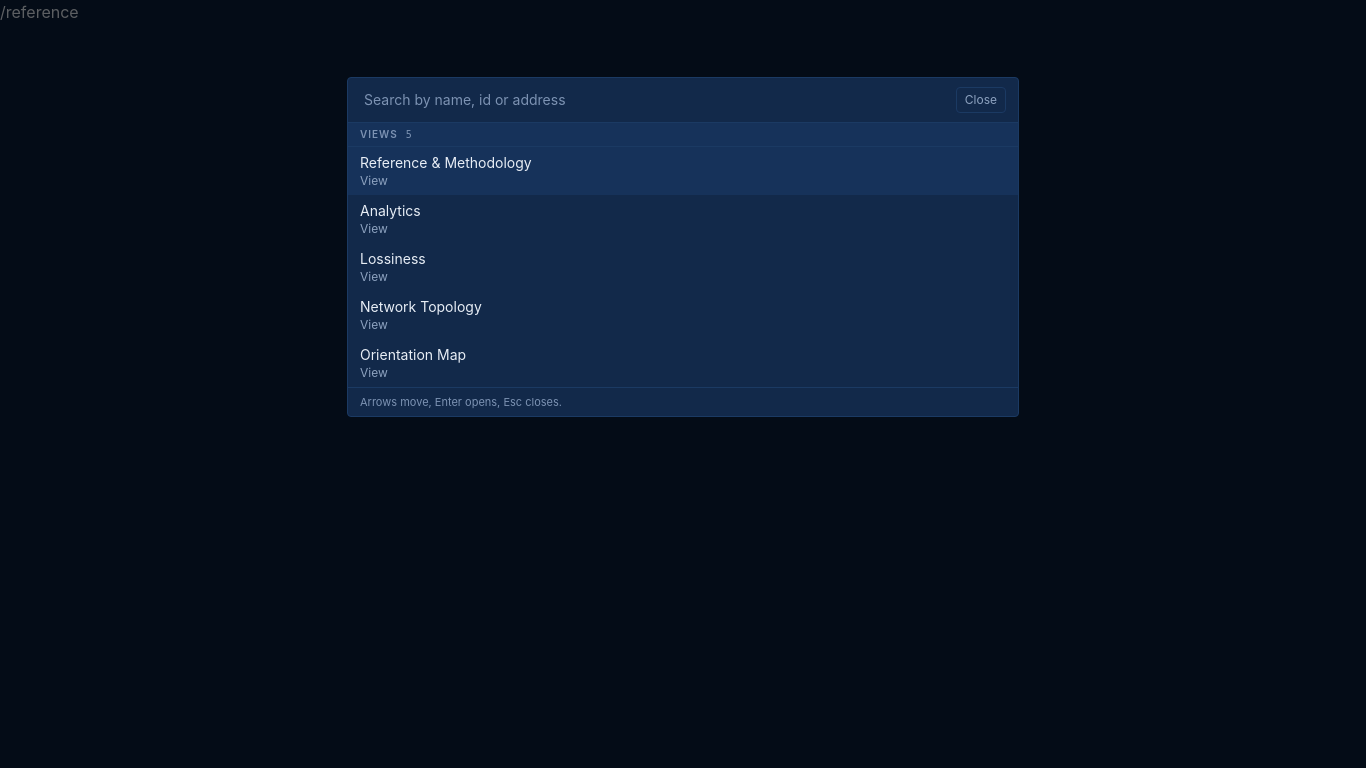
Test: command palette › finds a site by name, and everything standing at it
This screenshot has width=1366, height=768.
Type "westfield" into the dropdown at (654, 100), box [360,86,948,114]
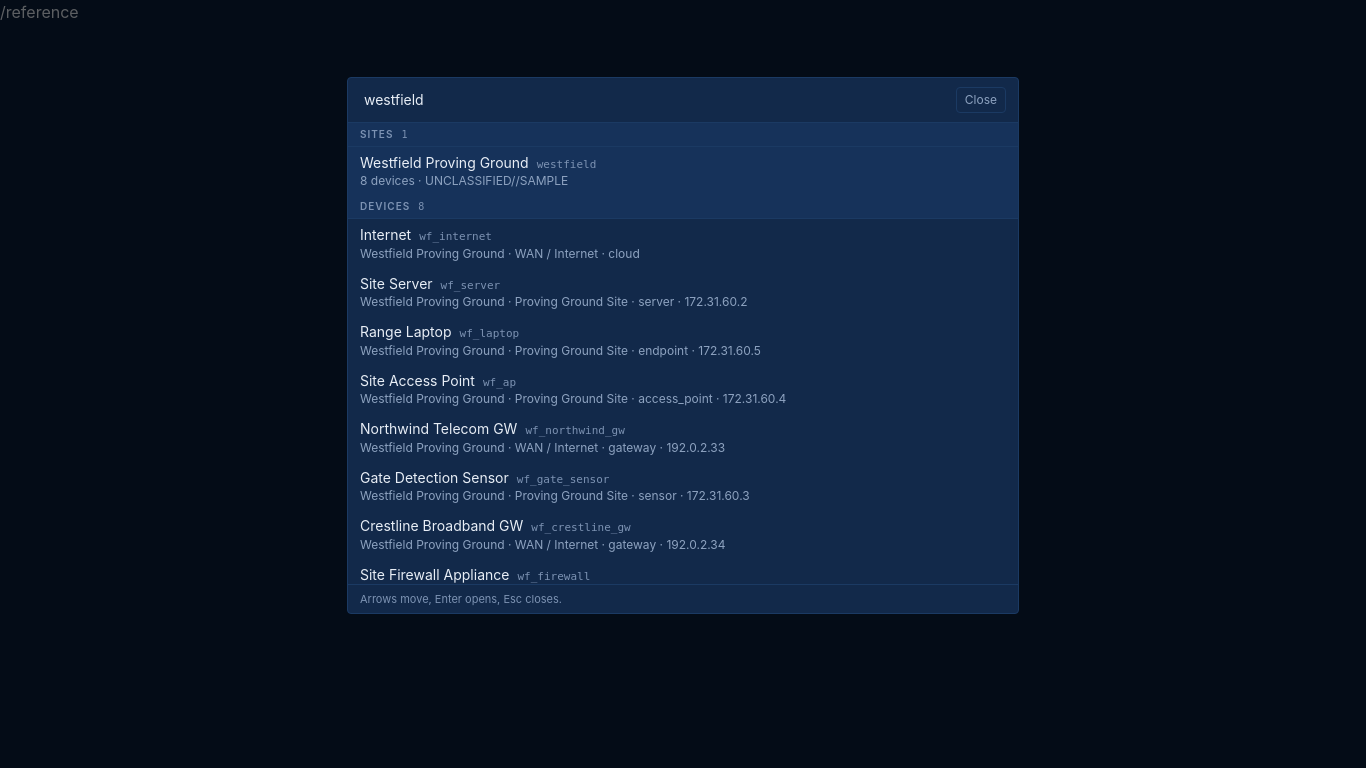
Now the option that starts with "Westfield Proving Ground" is shown, box [348,147,1018,195]
